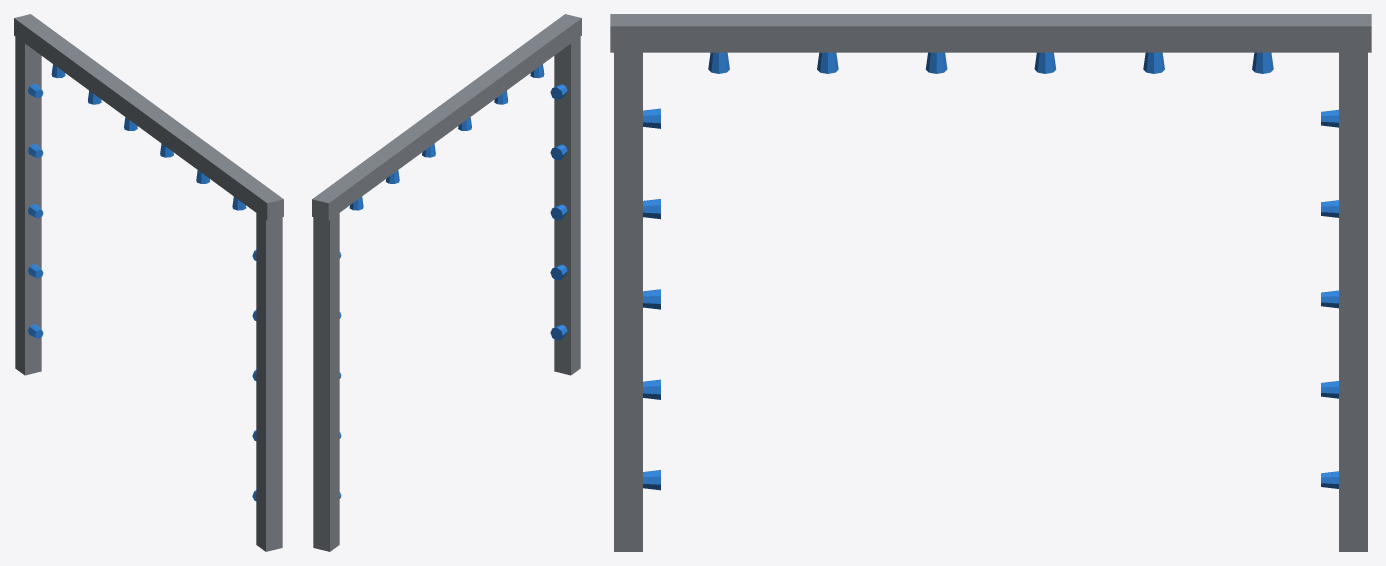
File: wash_jets.glb
The picture shows the model from 3 angles, left to right: view 1: azimuth 30°, elevation 25°; view 2: azimuth 150°, elevation 25°; view 3: azimuth 270°, elevation 25°; orthographic projection. The views are drawn at different scales.
Parts seen in each view (by area): view 1: post_jets_grey, beam_jets_grey, nozzle_jets_nozzle, nozzle_top_jets_nozzle; view 2: post_jets_grey, beam_jets_grey, nozzle_jets_nozzle, nozzle_top_jets_nozzle; view 3: post_jets_grey, beam_jets_grey, nozzle_jets_nozzle, nozzle_top_jets_nozzle.
Boxes of the visible parts, x1=… form: post_jets_grey: x1=15, y1=15, x2=282, y2=551; beam_jets_grey: x1=14, y1=14, x2=283, y2=220; nozzle_jets_nozzle: x1=28, y1=84, x2=256, y2=500; nozzle_top_jets_nozzle: x1=51, y1=64, x2=246, y2=210; post_jets_grey: x1=313, y1=15, x2=580, y2=551; beam_jets_grey: x1=312, y1=14, x2=581, y2=220; nozzle_jets_nozzle: x1=339, y1=84, x2=567, y2=498; nozzle_top_jets_nozzle: x1=349, y1=64, x2=544, y2=210; post_jets_grey: x1=614, y1=14, x2=1367, y2=551; beam_jets_grey: x1=610, y1=14, x2=1371, y2=52; nozzle_jets_nozzle: x1=643, y1=108, x2=1338, y2=490; nozzle_top_jets_nozzle: x1=708, y1=52, x2=1273, y2=73.
Bounding box in the file's own units: 0.16 × 3.2 × 4.2.
